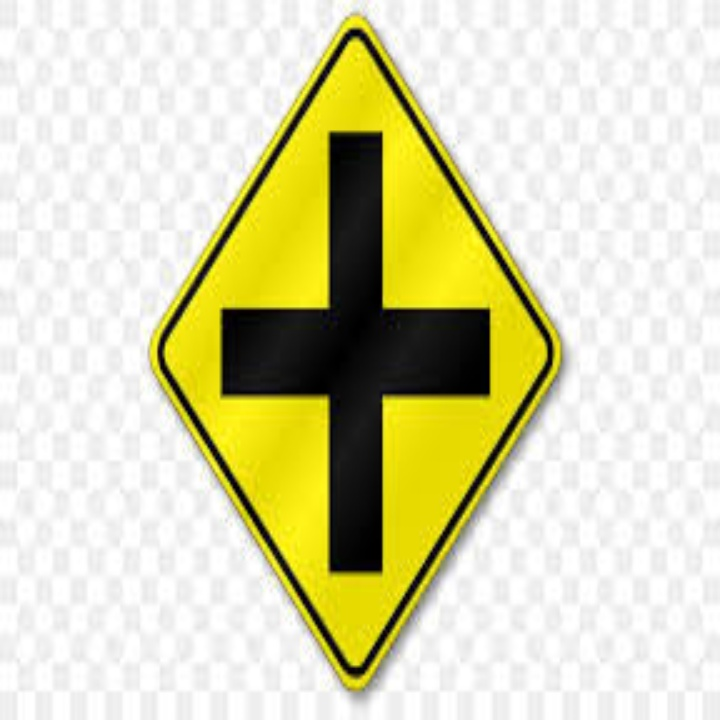inter: (214, 120, 499, 582)
